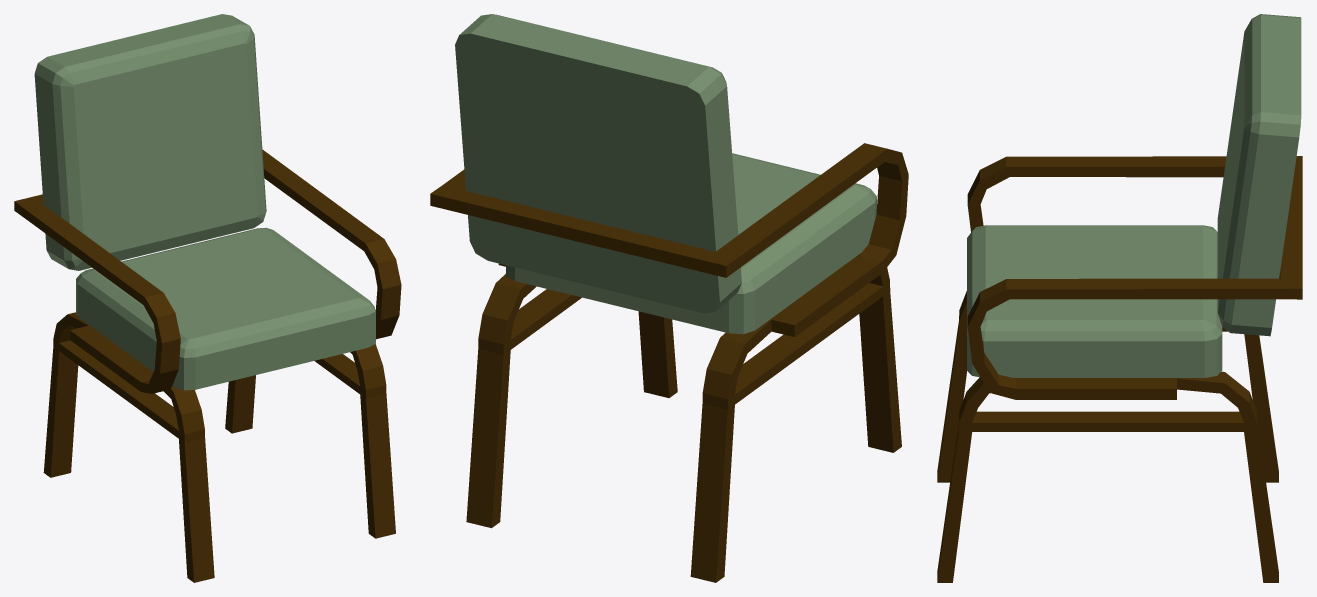
The model's file is H_Chair_2.fbx.
3 renders of one model, left to right at view 1: azimuth 30°, elevation 25°; view 2: azimuth 150°, elevation 25°; view 3: azimuth 270°, elevation 25°, orthographic. The views are drawn at different scales.
Parts seen in each view (by area): view 1: H_Chair_2; view 2: H_Chair_2; view 3: H_Chair_2.
Part boxes in pixels (x1,y1,x2,y2): H_Chair_2: (14,14,401,582); H_Chair_2: (430,14,908,582); H_Chair_2: (937,14,1302,582).
Size of the model in its own units: 319 by 372 by 520.
